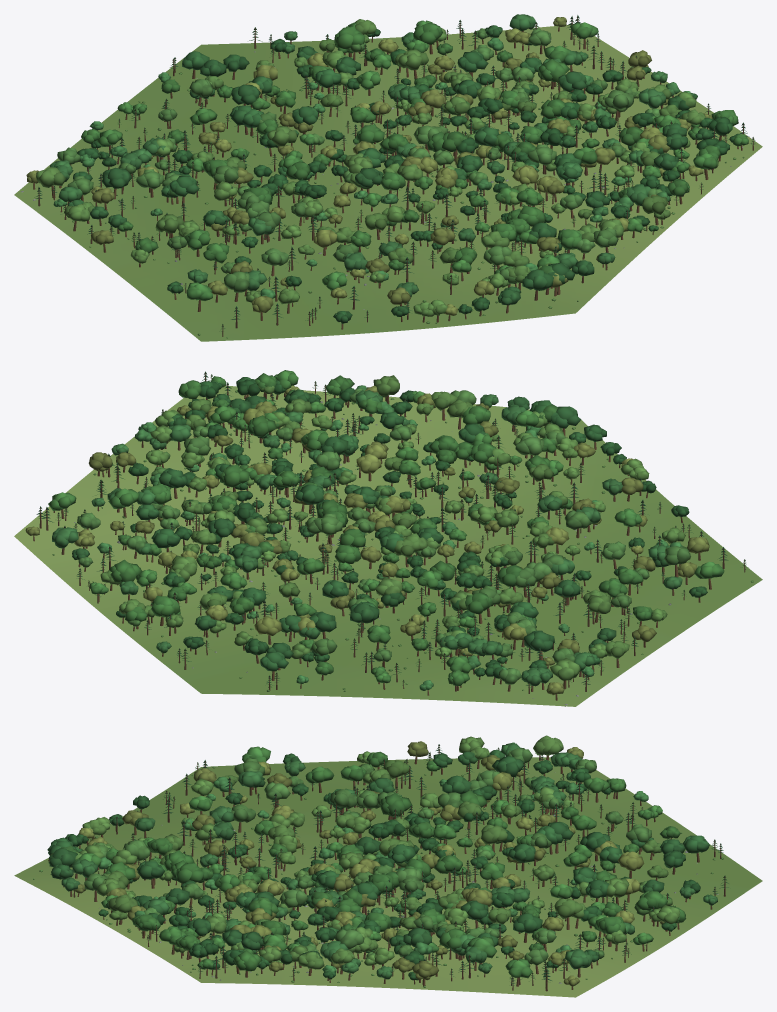
3 views of the same model, one above another, from view 1: azimuth 30°, elevation 25°; view 2: azimuth 150°, elevation 25°; view 3: azimuth 270°, elevation 25° (orthographic).
Visible parts, largest first — view 1: broadleaf_canopy, terrain, trunks, conifer_canopy; view 2: broadleaf_canopy, terrain, trunks, conifer_canopy, shrubs; view 3: broadleaf_canopy, terrain, trunks, conifer_canopy, shrubs.
Part boxes in pixels (x1,y1,x2,y2): broadleaf_canopy: (26, 14, 748, 323); terrain: (14, 25, 762, 341); trunks: (33, 16, 753, 336); conifer_canopy: (34, 15, 755, 331); broadleaf_canopy: (25, 370, 724, 695); terrain: (14, 386, 762, 706); trunks: (33, 372, 745, 700); conifer_canopy: (36, 371, 748, 687); shrubs: (52, 387, 753, 691); broadleaf_canopy: (47, 735, 717, 986); terrain: (14, 757, 762, 997); trunks: (63, 745, 725, 991); conifer_canopy: (74, 744, 728, 985); shrubs: (33, 759, 723, 987).
Size of the model in its own units: 4330 by 599 by 5000.
